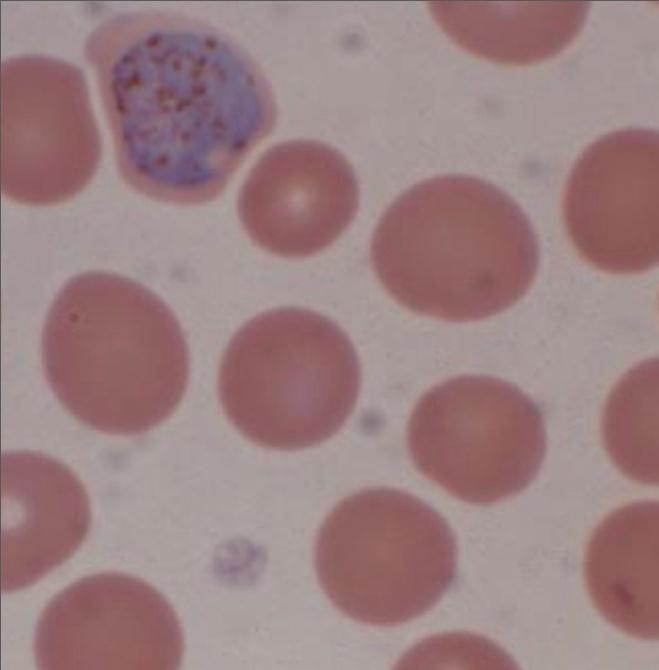Infected: (86, 11, 272, 199)
Uninfected: (370, 174, 539, 320), (43, 273, 189, 434), (220, 306, 362, 449), (315, 489, 455, 624), (408, 375, 547, 502), (0, 56, 101, 208), (237, 138, 360, 256), (563, 126, 659, 271), (36, 573, 180, 666), (6, 452, 89, 589)
